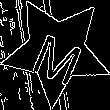M_NE: (26, 19, 87, 83)
